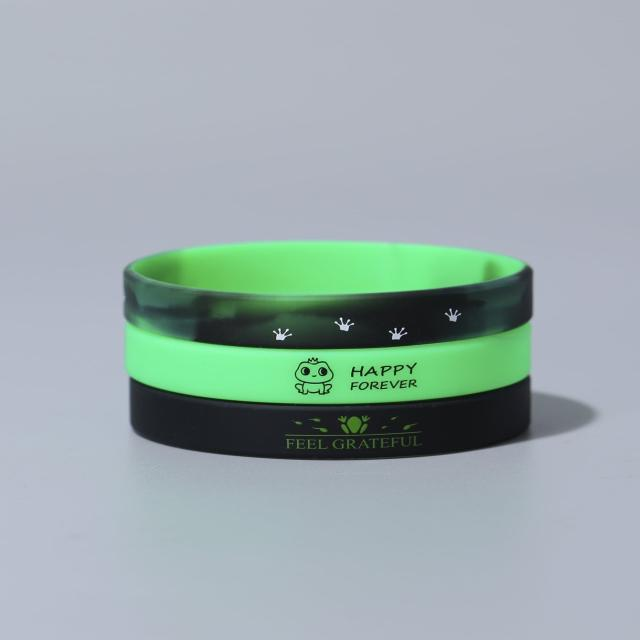bracelet: (0, 145, 577, 494)
